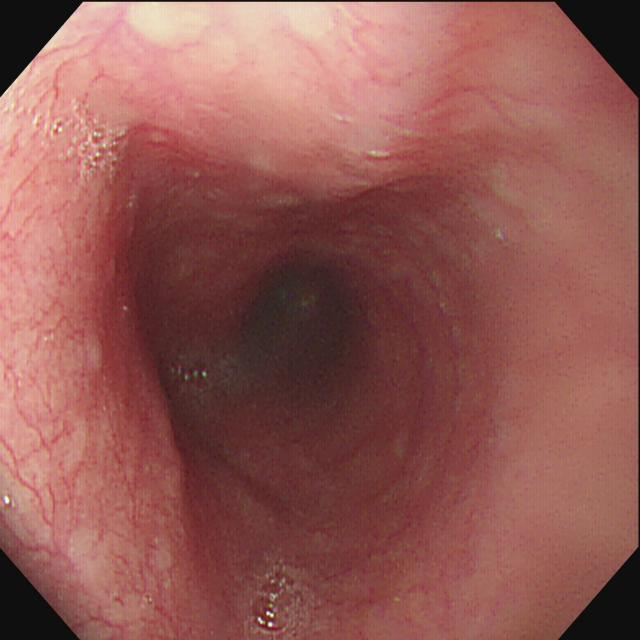A: (27, 264, 163, 556)
E: (221, 252, 370, 400)
T: (6, 88, 130, 185), (243, 557, 316, 637)
